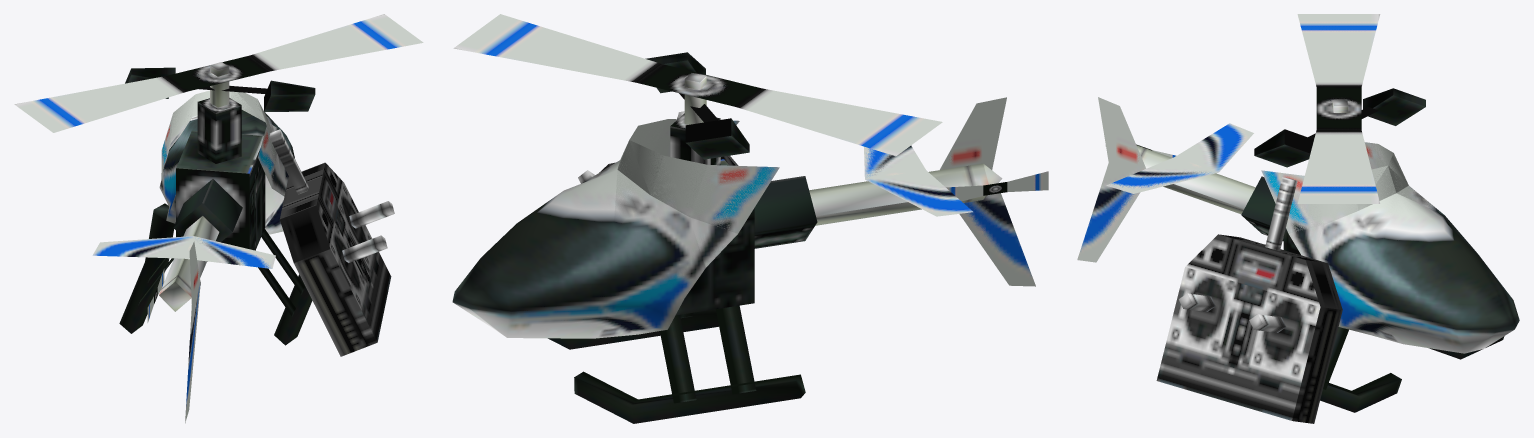
File: fcircus.ico.obj
The picture shows the model from 3 angles, left to right: view 1: azimuth 30°, elevation 25°; view 2: azimuth 150°, elevation 25°; view 3: azimuth 270°, elevation 25°; orthographic projection. The views are drawn at different scales.
Bounding box in the file's own units: 4.98 × 3.17 × 4.9.
1 material, 1 textured.
